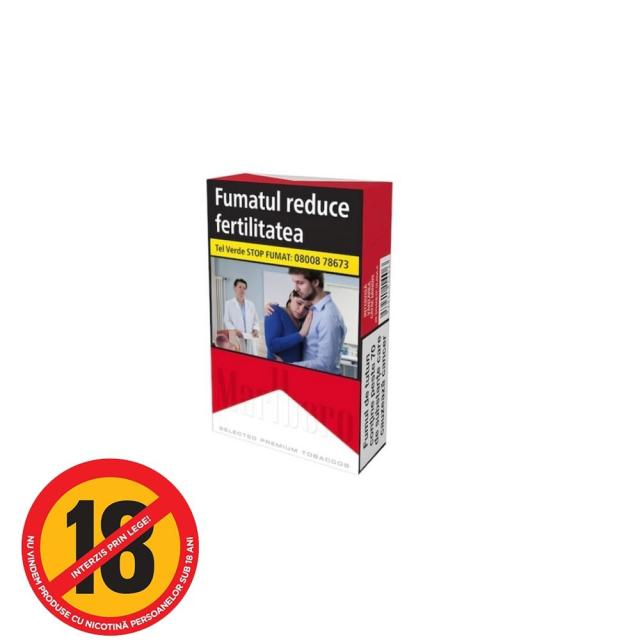marlboro: (198, 165, 394, 487)
